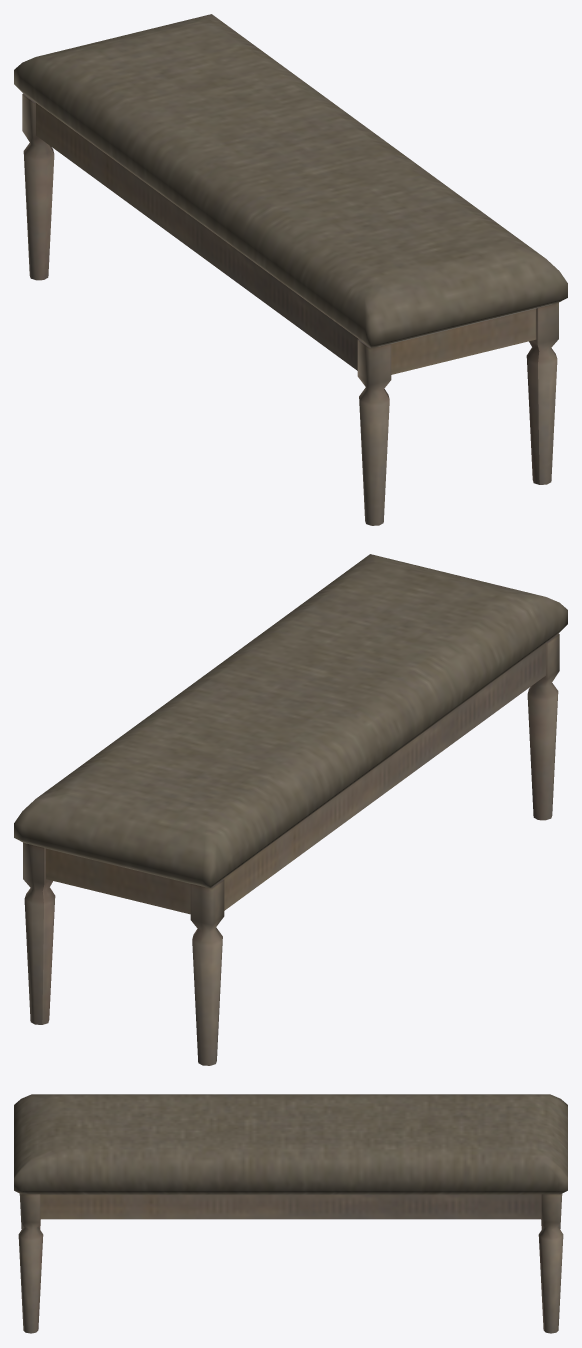
Rendered from BedStool_B.FBX.
The picture shows the model from 3 angles, top to bottom: view 1: azimuth 30°, elevation 25°; view 2: azimuth 150°, elevation 25°; view 3: azimuth 270°, elevation 25°; orthographic projection. The views are drawn at different scales.
Parts seen in each view (by area): view 1: BedStool_B; view 2: BedStool_B; view 3: BedStool_B.
Boxes of the visible parts, bbox=[...] form: BedStool_B: bbox=[14, 14, 567, 525]; BedStool_B: bbox=[14, 554, 567, 1065]; BedStool_B: bbox=[14, 1094, 567, 1333].
Bounding box in the file's own units: 38.39 × 42.36 × 121.
